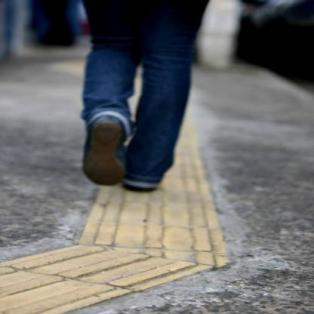Podoctatil: (0, 76, 246, 314)
